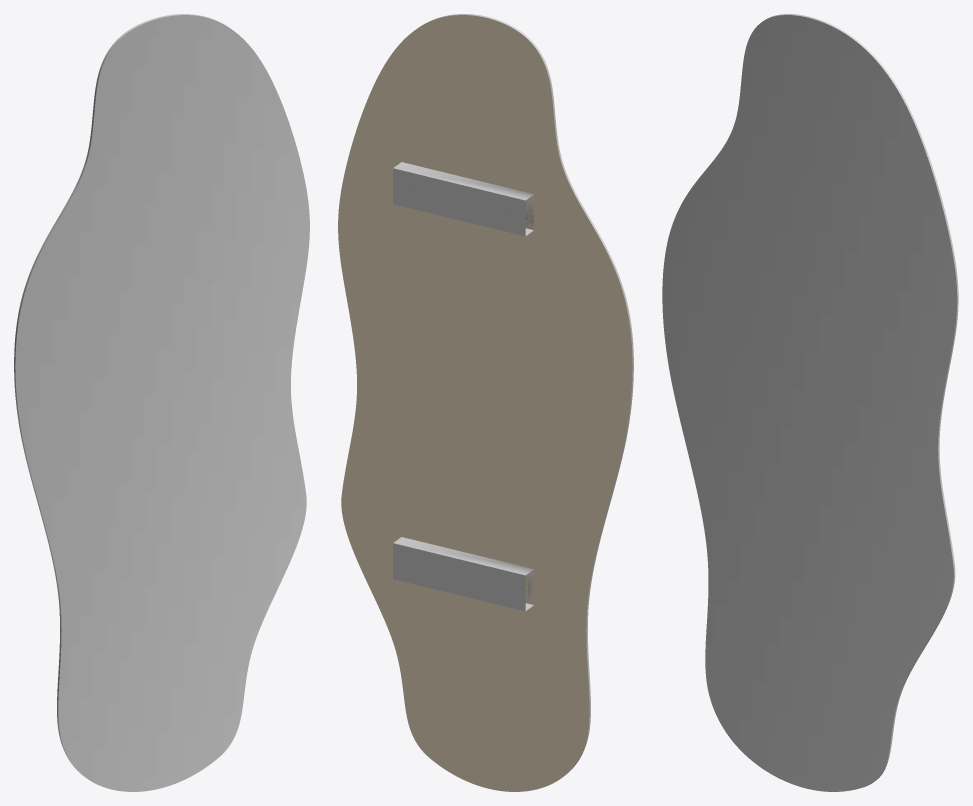
The model's file is mirror_2_1.glb.
3 views of the same model, side by side, from view 1: azimuth 30°, elevation 25°; view 2: azimuth 150°, elevation 25°; view 3: azimuth 330°, elevation 25° (orthographic).
Parts seen in each view (by area): view 1: mesh_1_ROOT__ESPELHO_BRENDA#1__Agrupar#2_Layer0_229_229_229_; view 2: mesh_3_ROOT__ESPELHO_BRENDA#1__Agrupar#2_Layer0_255_223_170_, mesh_0_ROOT__ESPELHO_BRENDA#1__Agrupar#9_Layer0, mesh_4_ROOT__ESPELHO_BRENDA#1__Agrupar#10_Layer0, mesh_1_ROOT__ESPELHO_BRENDA#1__Agrupar#2_Layer0_229_229_229_; view 3: mesh_1_ROOT__ESPELHO_BRENDA#1__Agrupar#2_Layer0_229_229_229_.
Boxes of the visible parts, x1,y1,x2,y2 form: mesh_1_ROOT__ESPELHO_BRENDA#1__Agrupar#2_Layer0_229_229_229_: (14,14,309,791); mesh_3_ROOT__ESPELHO_BRENDA#1__Agrupar#2_Layer0_255_223_170_: (338,15,632,791); mesh_0_ROOT__ESPELHO_BRENDA#1__Agrupar#9_Layer0: (393,162,533,236); mesh_4_ROOT__ESPELHO_BRENDA#1__Agrupar#10_Layer0: (393,537,533,611); mesh_1_ROOT__ESPELHO_BRENDA#1__Agrupar#2_Layer0_229_229_229_: (422,14,633,775); mesh_1_ROOT__ESPELHO_BRENDA#1__Agrupar#2_Layer0_229_229_229_: (662,14,958,791).
Bounding box in the file's own units: 600 × 1500 × 35.
Materials: 4 (1 with a texture image).
